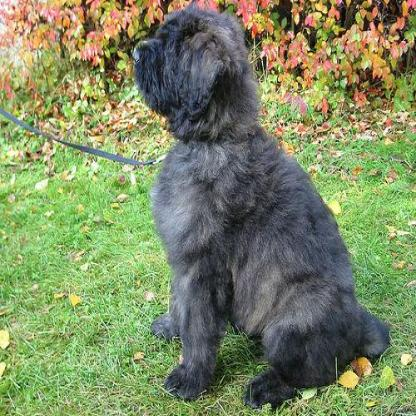Bouvier_des_Flandres: (127, 0, 391, 412)
